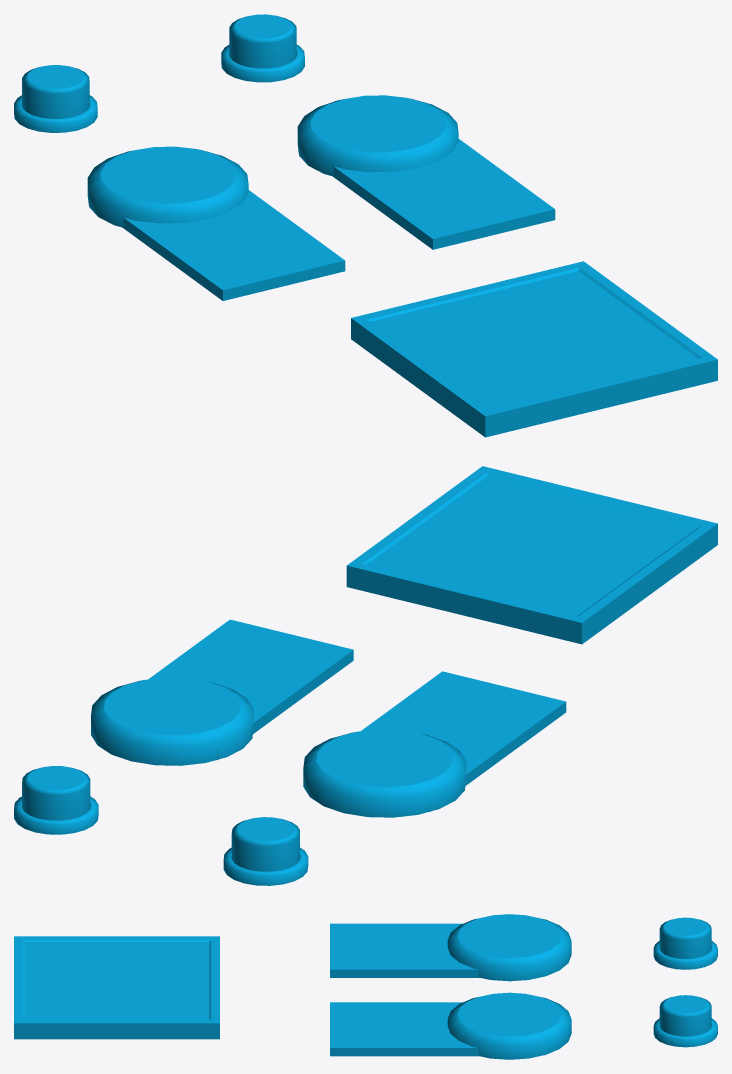
File: Button_W_Grp_01_Lod0.fbx
3 renders of one model, top to bottom at view 1: azimuth 30°, elevation 25°; view 2: azimuth 150°, elevation 25°; view 3: azimuth 270°, elevation 25°, orthographic. The views are drawn at different scales.
Visible parts, largest first — view 1: Button_W_Grp_01_Lod0; view 2: Button_W_Grp_01_Lod0; view 3: Button_W_Grp_01_Lod0.
Boxes of the visible parts, x1,y1,x2,y2 form: Button_W_Grp_01_Lod0: (14, 14, 717, 437); Button_W_Grp_01_Lod0: (14, 466, 717, 885); Button_W_Grp_01_Lod0: (14, 914, 717, 1059).
Size of the model in its own units: 15.52 by 1.63 by 35.26.
